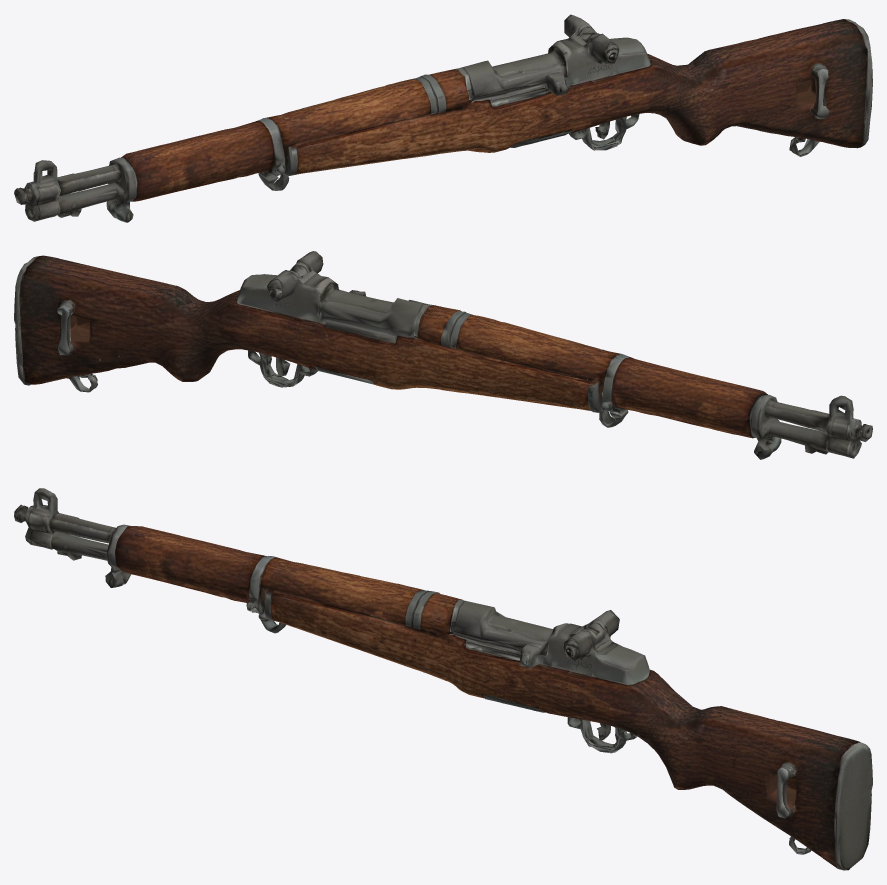
The model's file is bolt-action.glb.
3 renders of one model, top to bottom at view 1: azimuth 30°, elevation 25°; view 2: azimuth 150°, elevation 25°; view 3: azimuth 330°, elevation 25°, orthographic.
Visible parts, largest first — view 1: tripo_node_019185f1-c6bb-4fbf-abed-2c0c2af2e477; view 2: tripo_node_019185f1-c6bb-4fbf-abed-2c0c2af2e477; view 3: tripo_node_019185f1-c6bb-4fbf-abed-2c0c2af2e477.
Part boxes in pixels (left/top/right/bottom): tripo_node_019185f1-c6bb-4fbf-abed-2c0c2af2e477: left=14, top=14, right=872, bottom=222; tripo_node_019185f1-c6bb-4fbf-abed-2c0c2af2e477: left=14, top=251, right=872, bottom=459; tripo_node_019185f1-c6bb-4fbf-abed-2c0c2af2e477: left=14, top=488, right=872, bottom=870.
Bounding box in the file's own units: 0.9817 × 0.2023 × 0.0903.
Materials: 1 (1 with a texture image).
